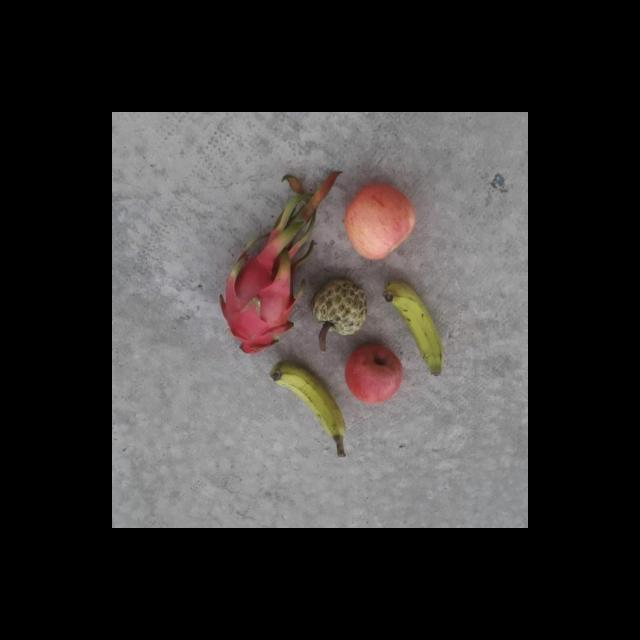Sakya fruit: (310, 276, 370, 334)
apple: (344, 186, 421, 260), (344, 338, 406, 404)
banana: (260, 357, 352, 449), (383, 273, 448, 382)
pitaya: (222, 254, 301, 354)
